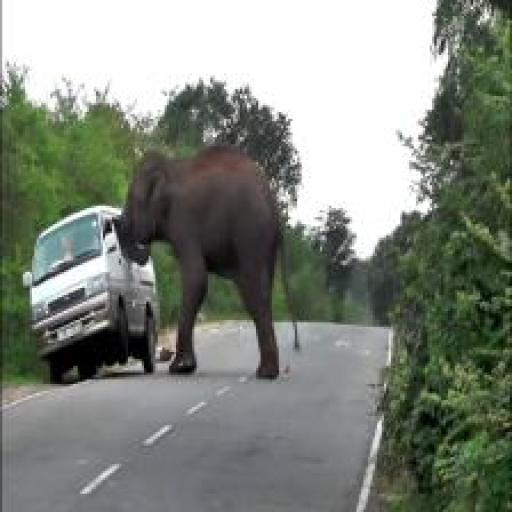Elephant: (130, 146, 304, 392)
